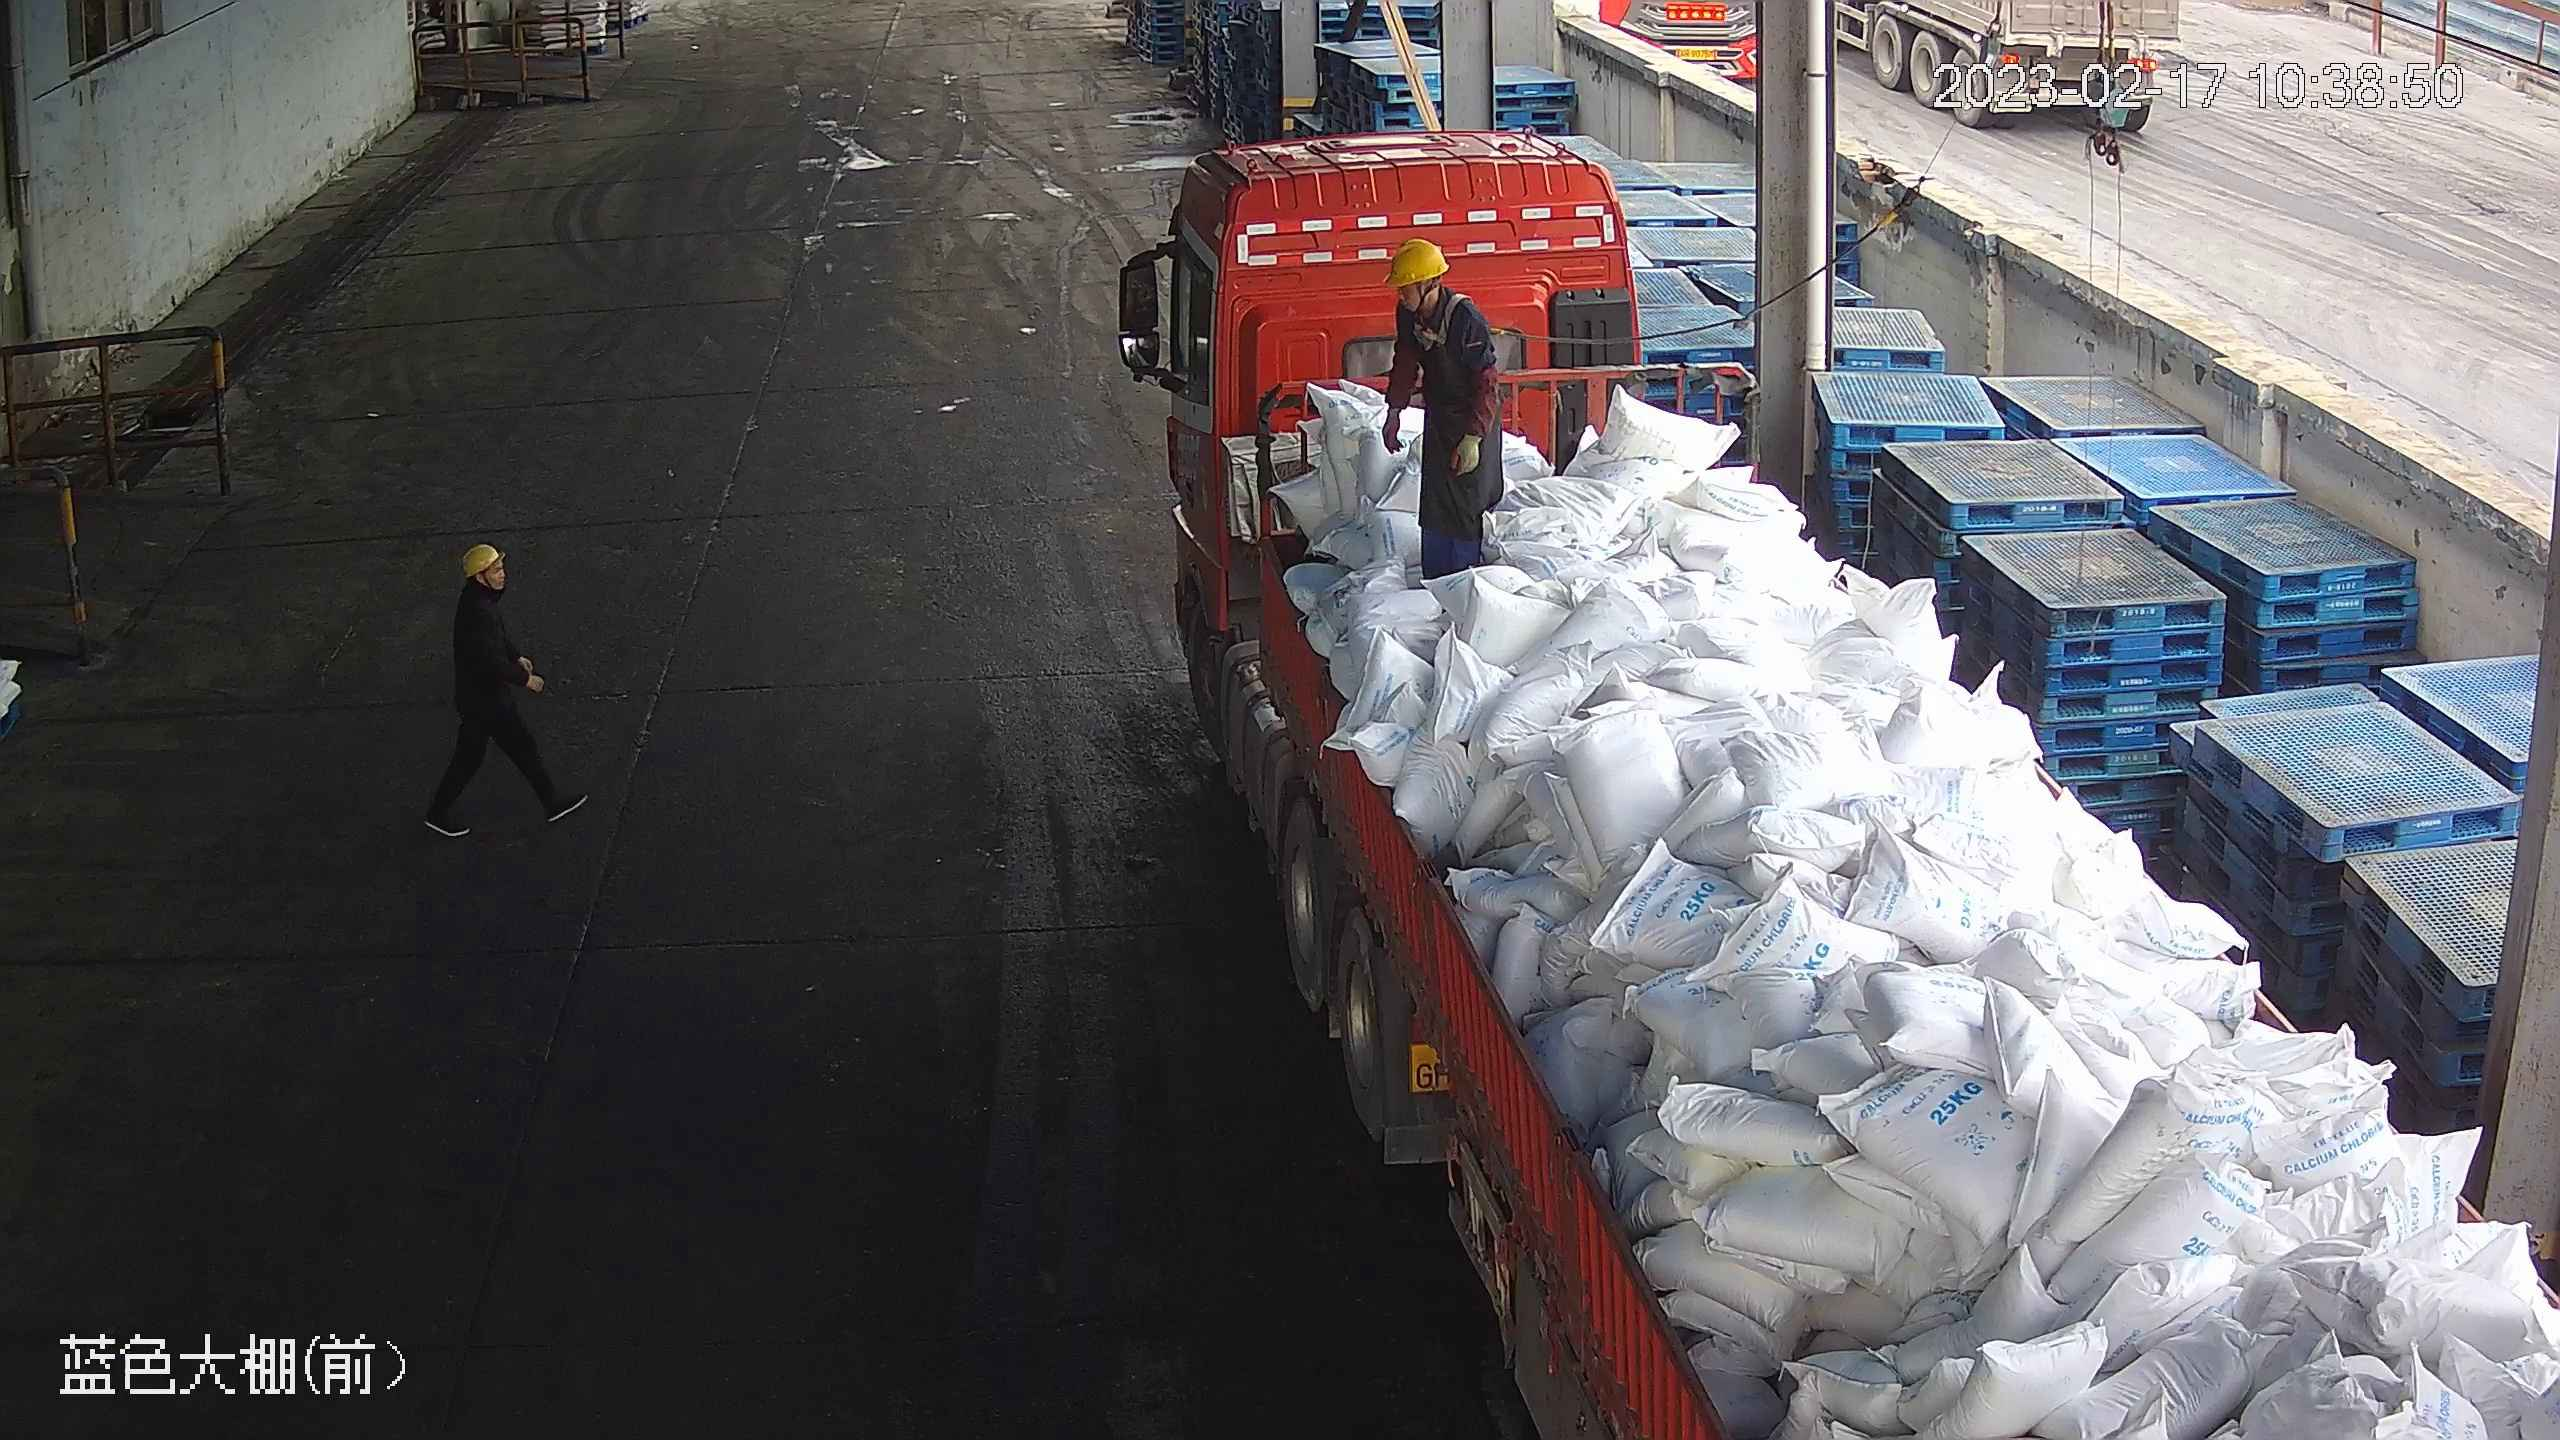belt: (1400, 285, 1485, 347)
head: (1385, 236, 1490, 352), (451, 541, 516, 637)
helmet: (1386, 236, 1450, 286), (461, 542, 505, 578)
people: (418, 538, 583, 841), (1378, 238, 1512, 579)
truck: (1116, 127, 2557, 1439)
